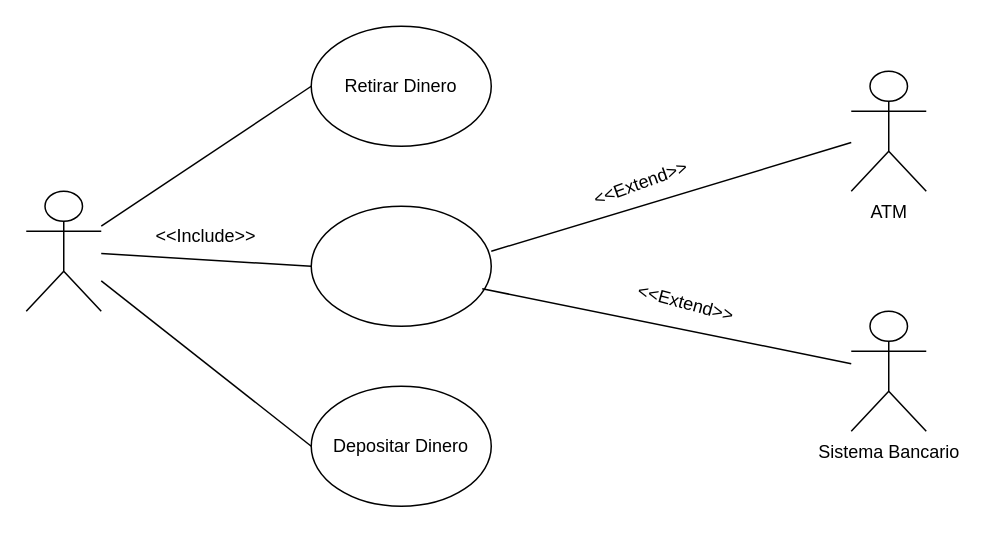
Image size: 986x533. Some labels were removed from this diagram. The shapes that lost their labels are listed below. From the top down, each one's centre as x and y in pixels, then its label:
At pixel 63 250: "Cliente".
At pixel 400 265: "Consultar Saldo".
